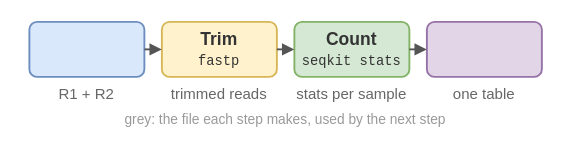
Some shapes in this 570 by 151 pixel diagram are drawn without their labels. The shapes that lost their labels are listed below. From the top down, each one's box as (x1, y1, x2, y2) in pixels, then its label:
(28, 20, 145, 77): Reads FASTQ files
(425, 20, 542, 77): Merge all samples
